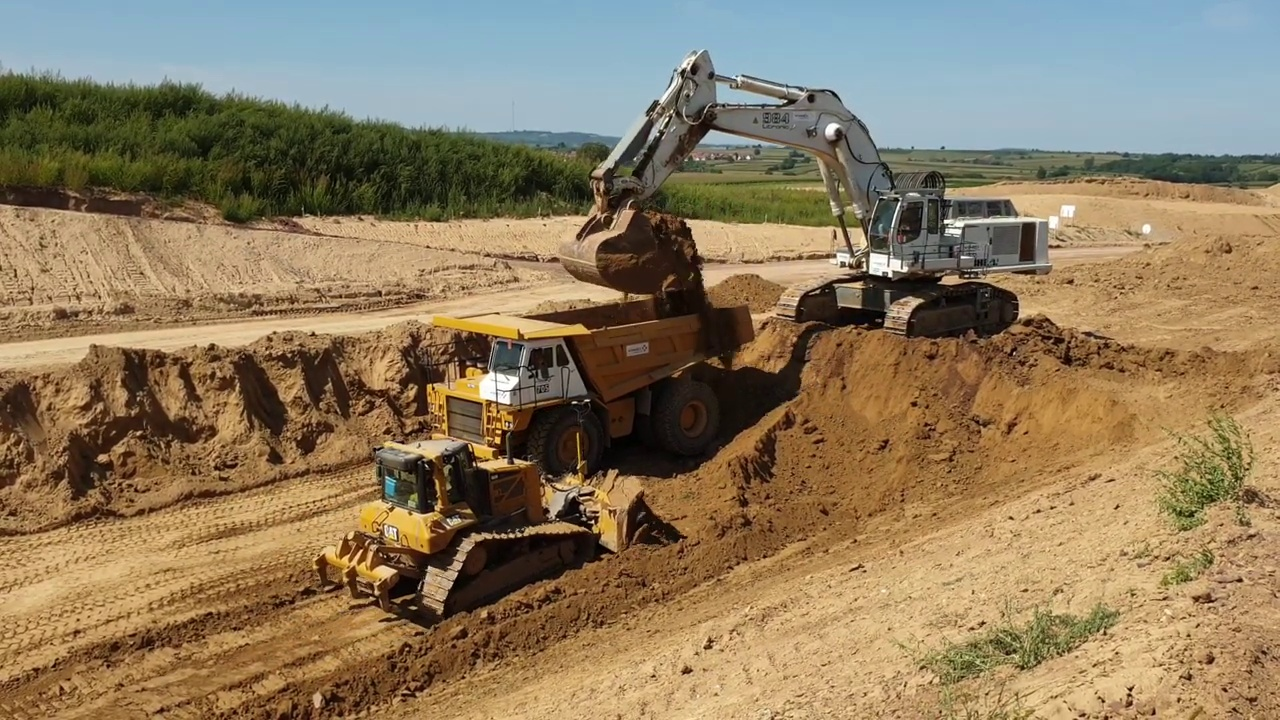bulldozer: (312, 398, 677, 623)
excavator: (557, 44, 1059, 344)
truck: (405, 288, 761, 489)
